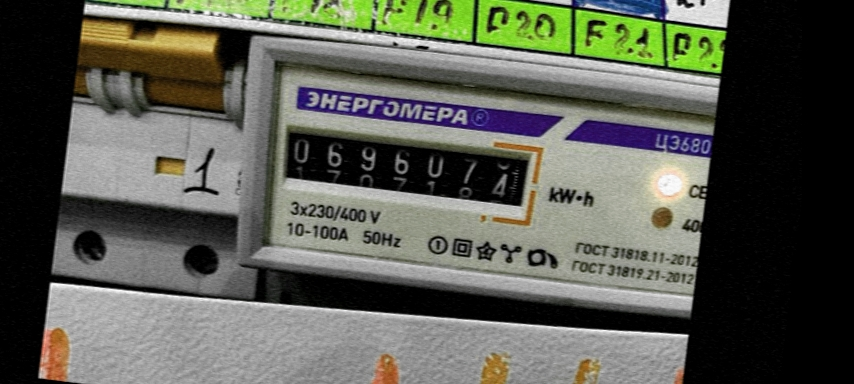0: (289, 135, 313, 165), (425, 149, 447, 180), (325, 139, 345, 167)
4: (489, 170, 509, 199)
6: (390, 144, 412, 176)
7: (458, 154, 479, 185)
9: (357, 142, 379, 172)
screen: (264, 109, 546, 226)
